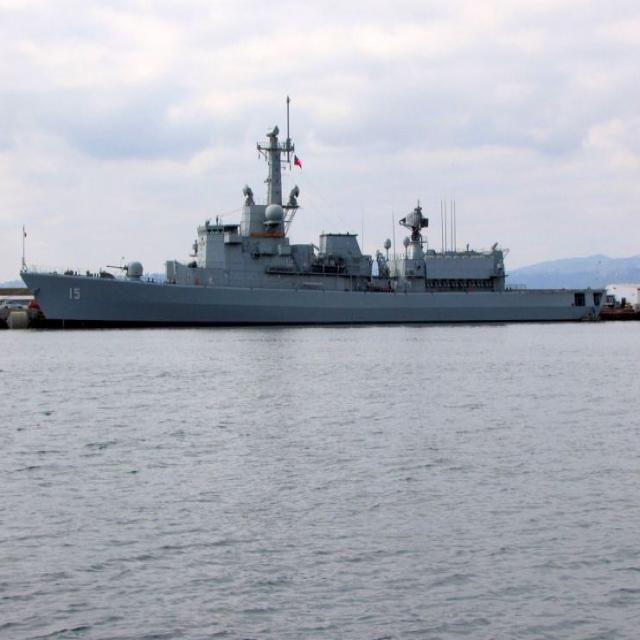Fragata: (17, 106, 611, 334)
